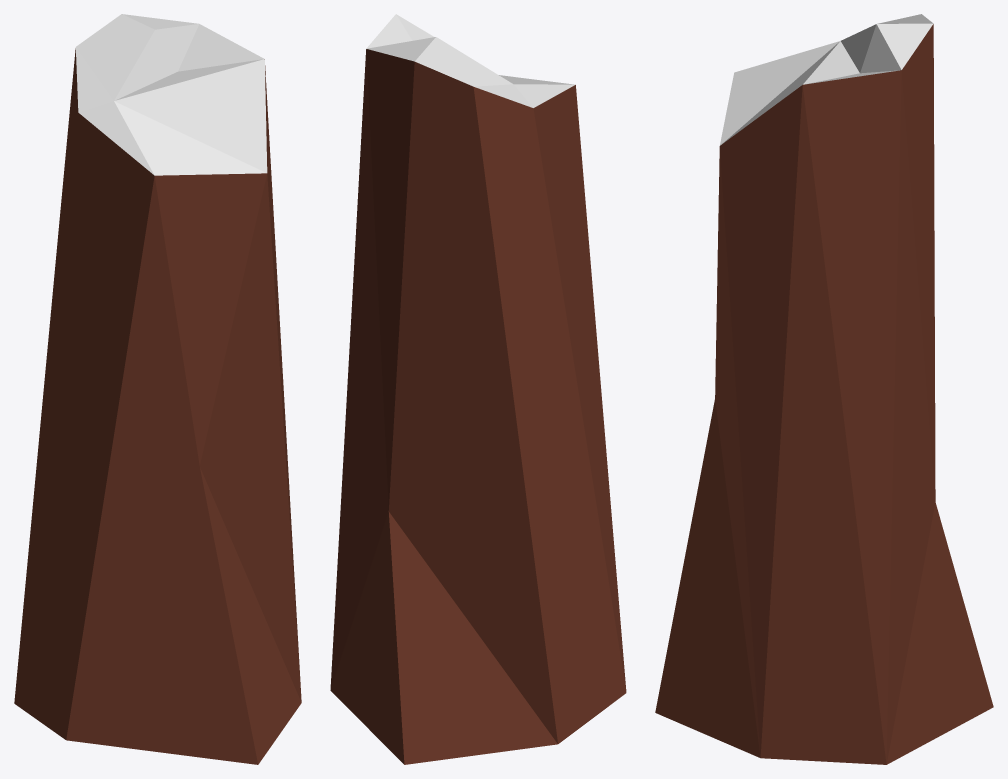
File: pine_trunk_type_9_extra_LOD3.fbx
3 views of the same model, side by side, from view 1: azimuth 30°, elevation 25°; view 2: azimuth 150°, elevation 25°; view 3: azimuth 270°, elevation 25° (orthographic). The views are drawn at different scales.
Visible parts, largest first — view 1: pt_type_9.001; view 2: pt_type_9.001; view 3: pt_type_9.001.
Part boxes in pixels (left/top/right/bottom): pt_type_9.001: left=14, top=14, right=301, bottom=764; pt_type_9.001: left=330, top=14, right=626, bottom=764; pt_type_9.001: left=655, top=14, right=993, bottom=764.
Size of the model in its own units: 139 by 373 by 164.
